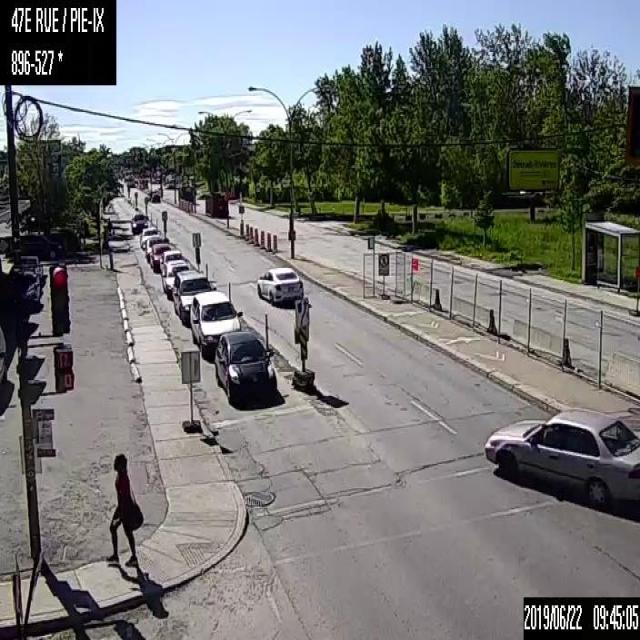construction: (264, 314, 269, 354), (226, 280, 231, 300), (260, 228, 264, 248), (254, 226, 258, 245), (272, 234, 276, 253), (266, 231, 270, 250), (249, 224, 253, 242), (239, 218, 243, 236), (244, 222, 248, 238), (204, 262, 207, 274)
pedestrian: (104, 452, 144, 565)
vehicle: (484, 406, 639, 510), (213, 331, 278, 403), (191, 288, 241, 356), (171, 268, 215, 324), (256, 266, 304, 304), (162, 256, 191, 297), (10, 264, 40, 302), (24, 230, 64, 258), (150, 242, 172, 272), (19, 254, 42, 282), (144, 236, 167, 262), (138, 227, 160, 249), (130, 210, 147, 232), (150, 192, 161, 203)
